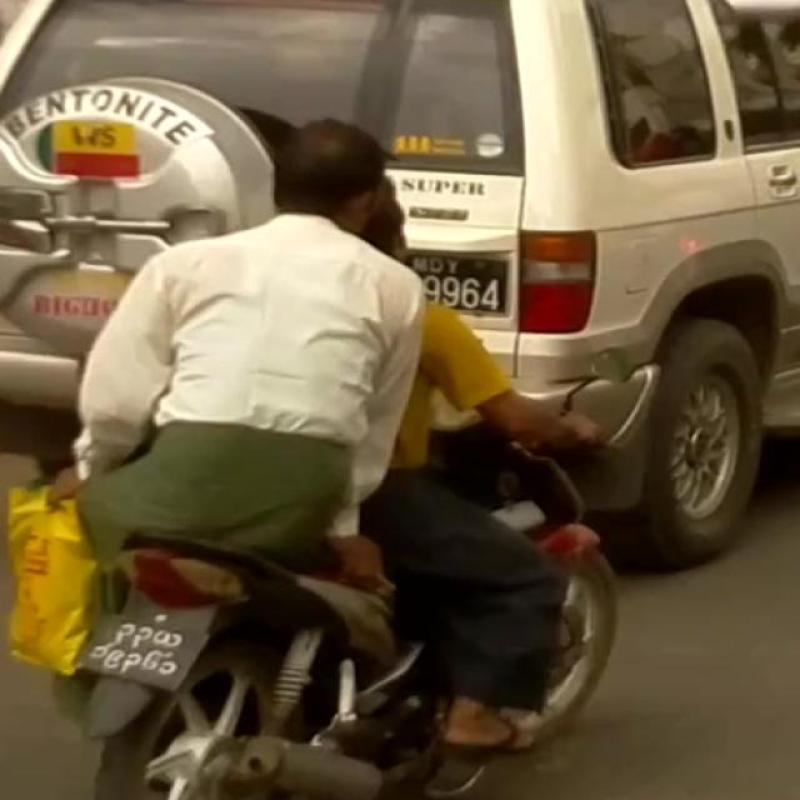nohelmet: (209, 99, 439, 224)
